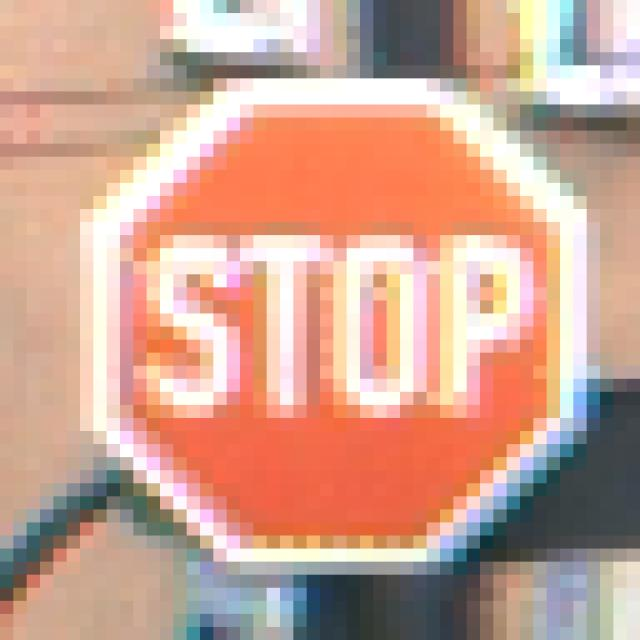STOP: (81, 79, 574, 576)
